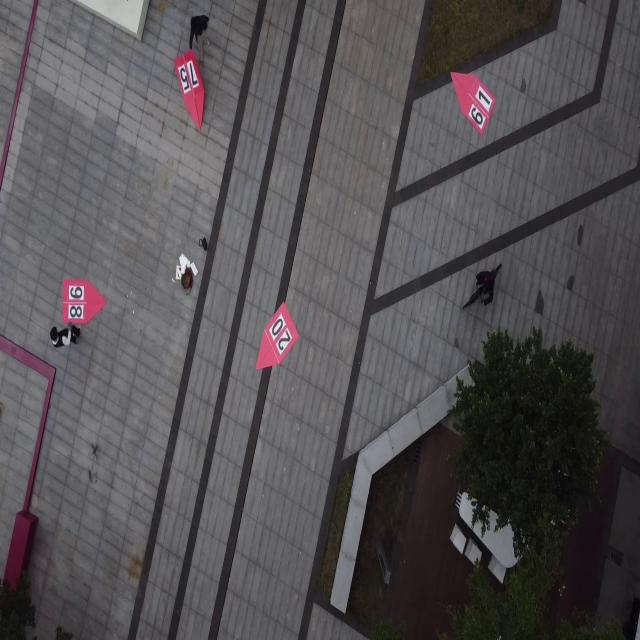-sign-: (254, 300, 300, 370), (451, 70, 496, 138), (174, 50, 204, 134), (63, 279, 108, 327)
